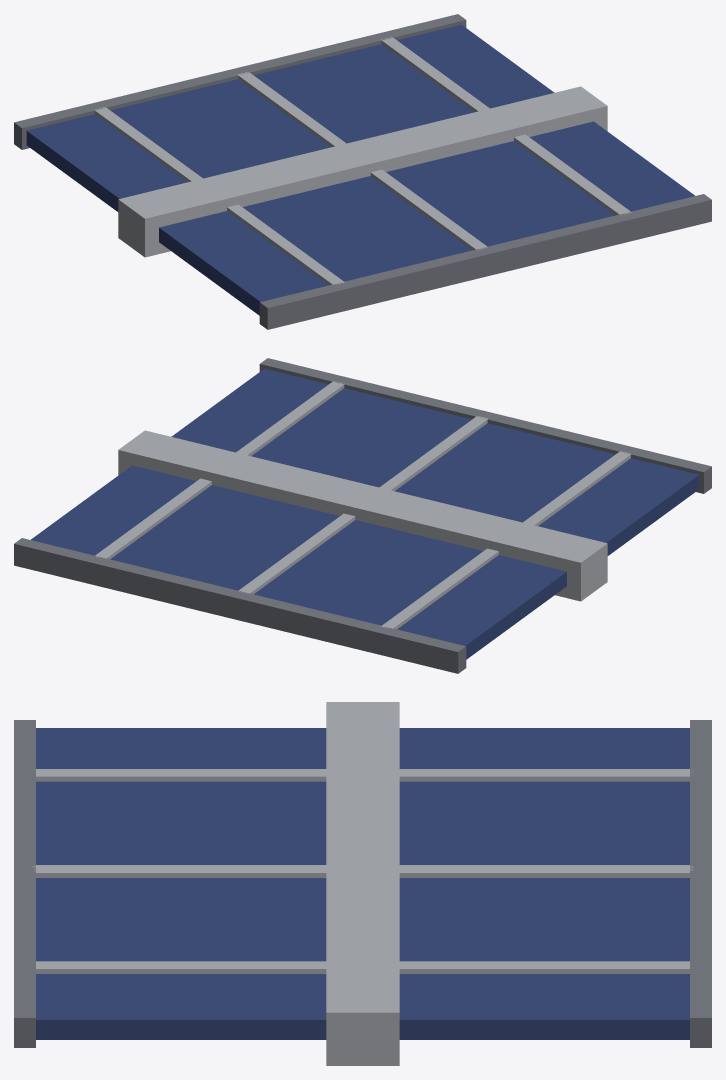
File: hull_solar_panel.glb
The picture shows the model from 3 angles, top to bottom: view 1: azimuth 30°, elevation 25°; view 2: azimuth 150°, elevation 25°; view 3: azimuth 270°, elevation 25°; orthographic projection. The views are drawn at different scales.
Bounding box in the file's own units: 1 × 0.08 × 0.95.
